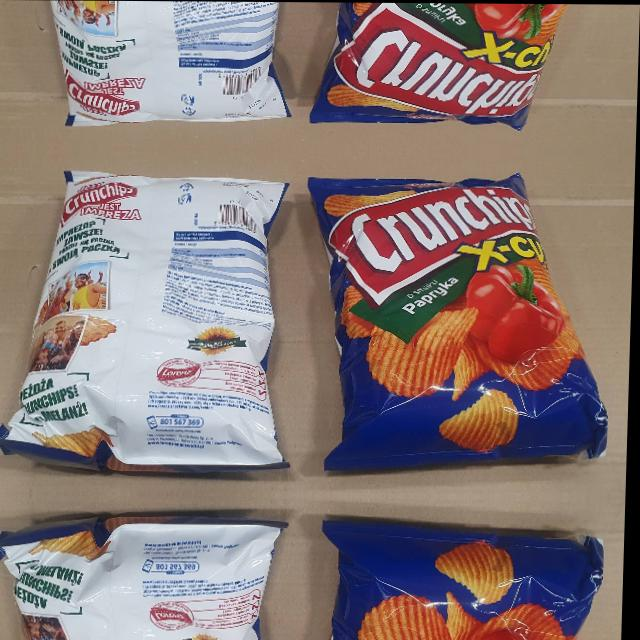crunchips: (330, 185, 541, 309), (334, 3, 545, 117)
